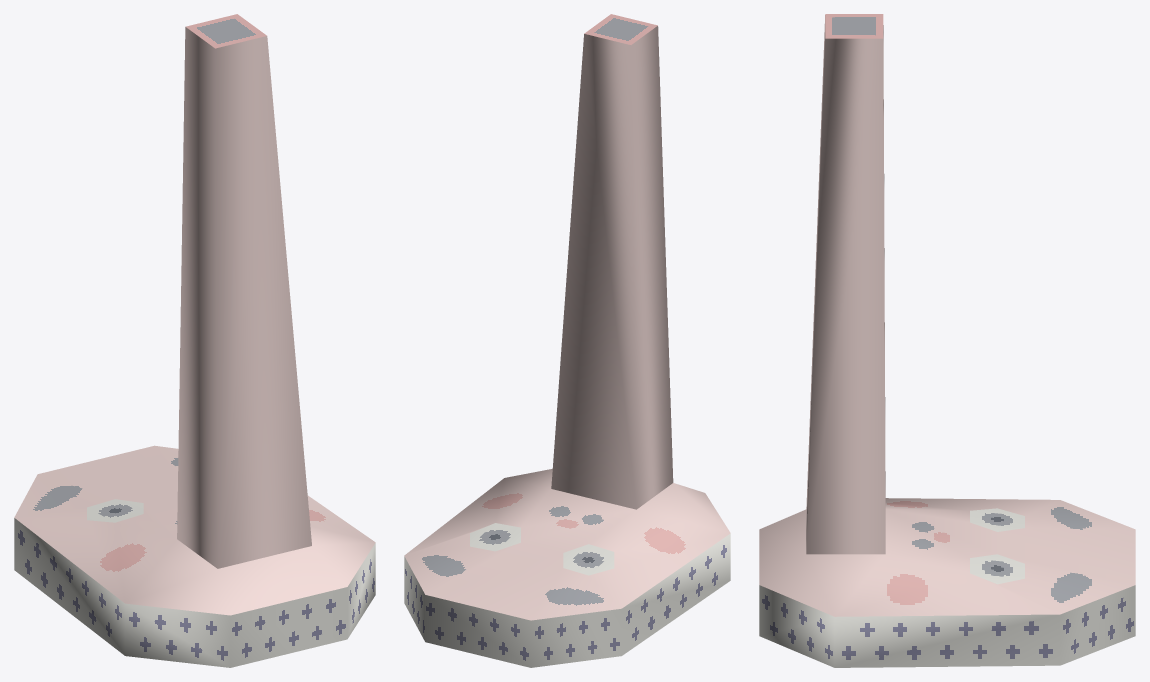
The model's file is 03fb_The_Best_Mask.glb.
3 views of the same model, side by side, from view 1: azimuth 30°, elevation 25°; view 2: azimuth 150°, elevation 25°; view 3: azimuth 270°, elevation 25° (orthographic). The views are drawn at different scales.
Visible parts, largest first — view 1: part_0, part_1; view 2: part_0, part_1, part_2; view 3: part_0, part_2, part_1.
Part boxes in pixels (box(x1,y1,x2,y2)): part_0: box(14, 14, 375, 667); part_1: box(87, 499, 143, 522); part_0: box(404, 14, 730, 667); part_1: box(563, 544, 614, 575); part_2: box(470, 523, 520, 551); part_0: box(759, 14, 1135, 667); part_2: box(970, 554, 1024, 584); part_1: box(970, 508, 1024, 531).
Size of the model in its own units: 0.15 by 0.3375 by 0.2.
3 materials, 3 textured.
